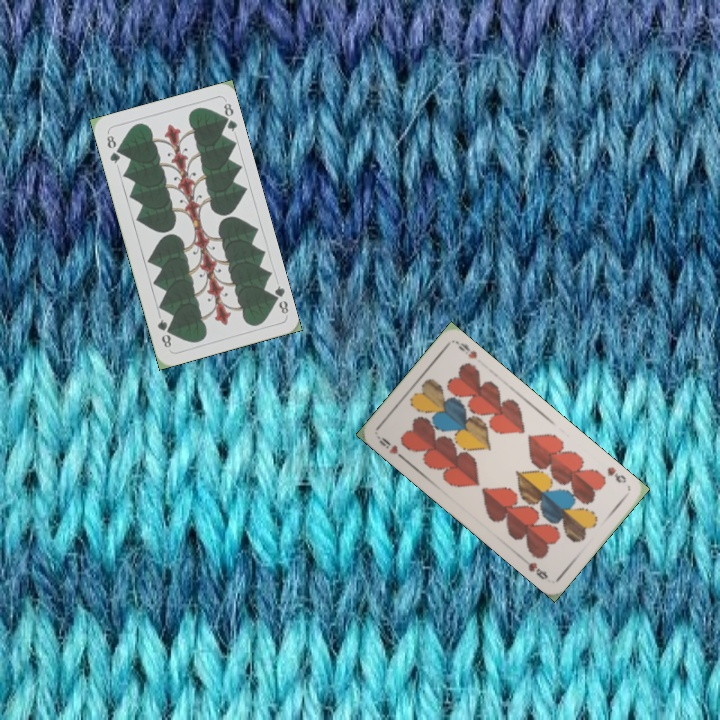G8: (267, 281, 291, 316), (102, 131, 123, 166)
H9: (373, 432, 408, 462), (603, 462, 629, 486)
